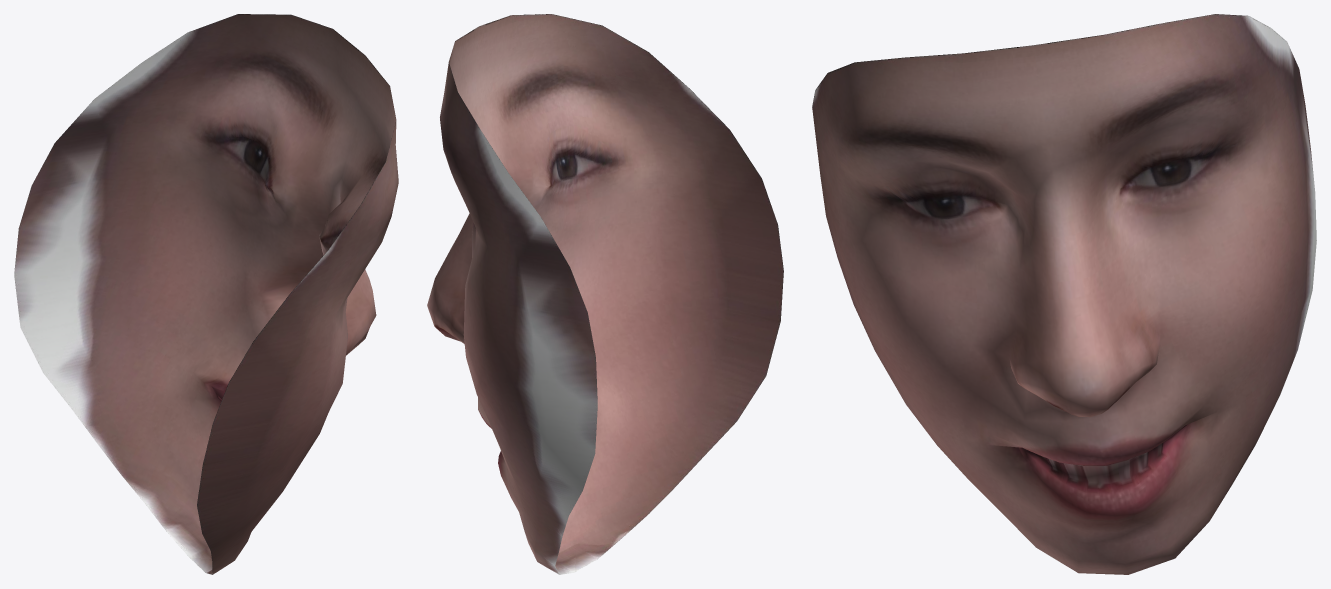
Rendered from twitch_lifestyle.glb.
The picture shows the model from 3 angles, left to right: view 1: azimuth 30°, elevation 25°; view 2: azimuth 150°, elevation 25°; view 3: azimuth 270°, elevation 25°; orthographic projection. The views are drawn at different scales.
Parts seen in each view (by area): view 1: twitch_lifestyle; view 2: twitch_lifestyle; view 3: twitch_lifestyle.
Boxes of the visible parts, x1,y1,x2,y2 form: twitch_lifestyle: [14, 14, 398, 574]; twitch_lifestyle: [427, 14, 783, 574]; twitch_lifestyle: [812, 14, 1316, 574].
Bounding box in the file's own units: 0.452 × 0.8337 × 0.6183.
Materials: 1 (1 with a texture image).
